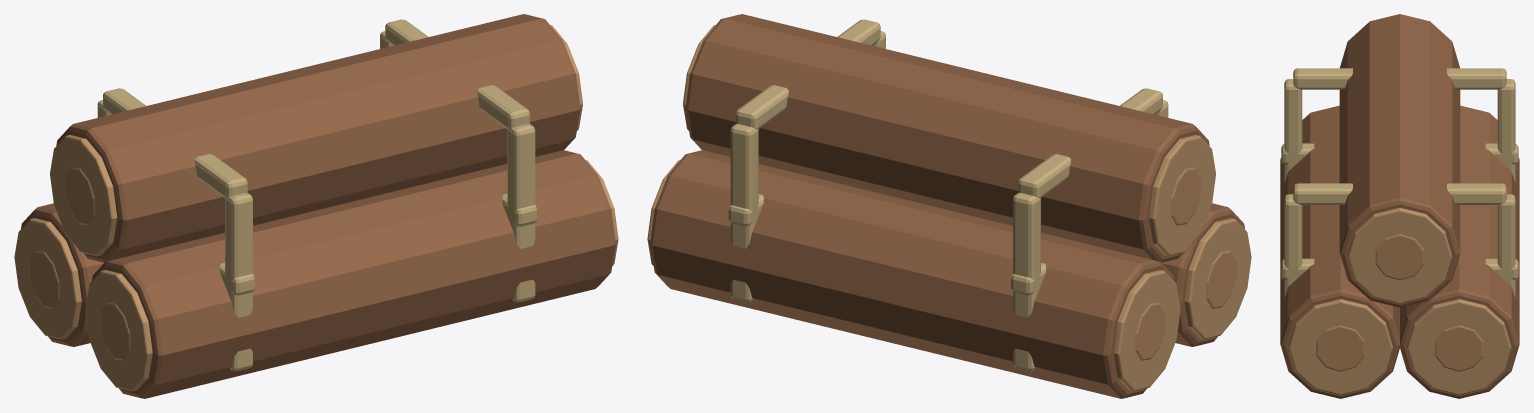
File: carry_logs.glb
The picture shows the model from 3 angles, left to right: view 1: azimuth 30°, elevation 25°; view 2: azimuth 150°, elevation 25°; view 3: azimuth 270°, elevation 25°; orthographic projection. The views are drawn at different scales.
Parts seen in each view (by area): view 1: carry_logs; view 2: carry_logs; view 3: carry_logs.
Part boxes in pixels (bbox=[...]): carry_logs: bbox=[14, 14, 618, 398]; carry_logs: bbox=[647, 14, 1251, 398]; carry_logs: bbox=[1280, 14, 1519, 398].
Bounding box in the file's own units: 0.7735 × 0.374 × 0.404.
